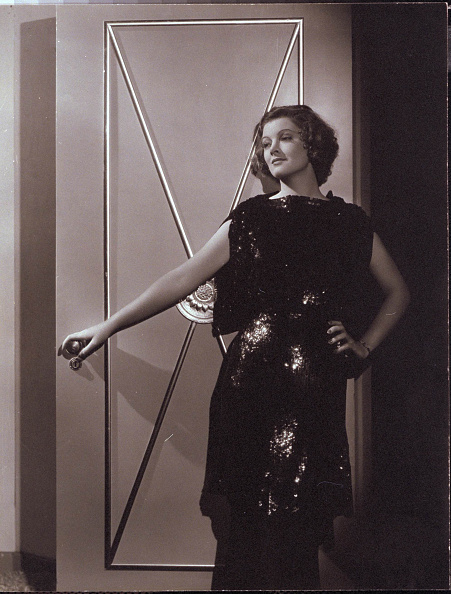em pe: (75, 77, 383, 582)
